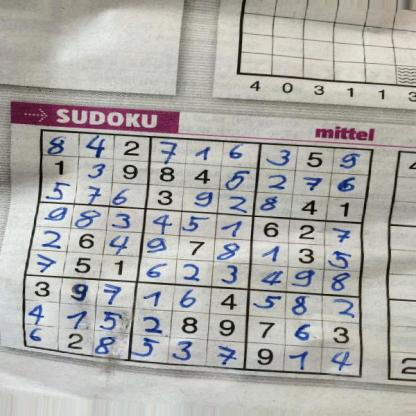sudoku: (21, 127, 376, 380)
